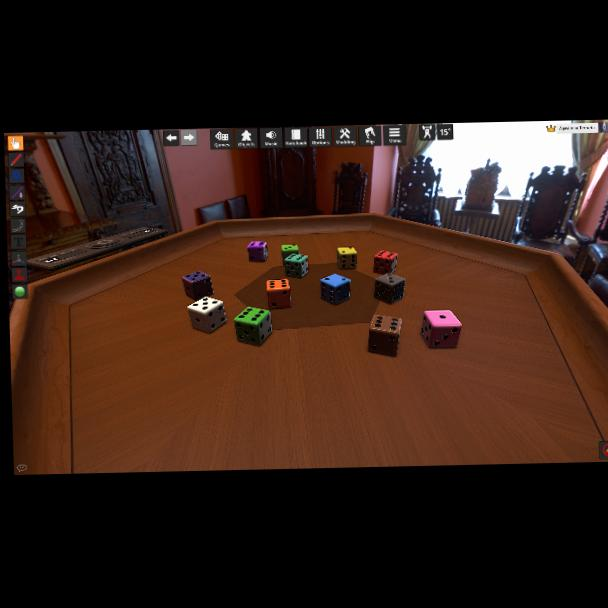d6: (422, 310, 464, 349), (365, 314, 401, 357), (187, 295, 226, 334), (234, 307, 271, 346), (373, 272, 406, 305), (182, 271, 214, 301), (319, 274, 347, 306), (266, 280, 291, 310), (373, 251, 397, 276), (283, 253, 307, 278), (247, 241, 268, 264), (336, 247, 356, 270), (280, 244, 299, 265)
